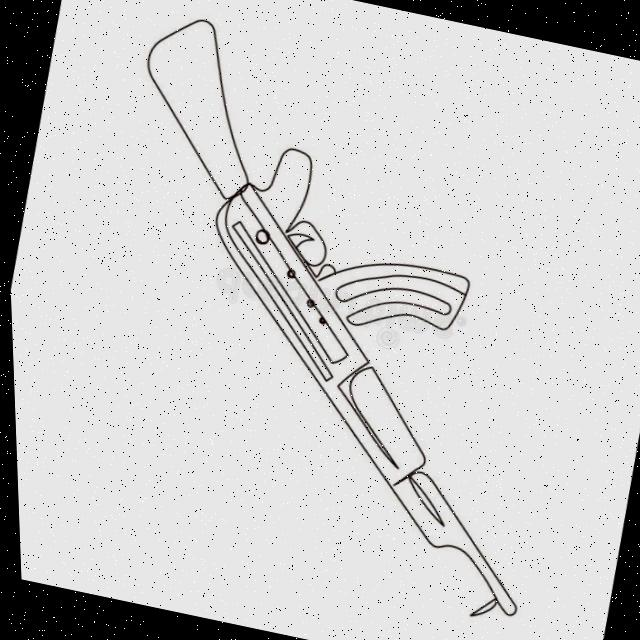firearm: (44, 9, 623, 629)
